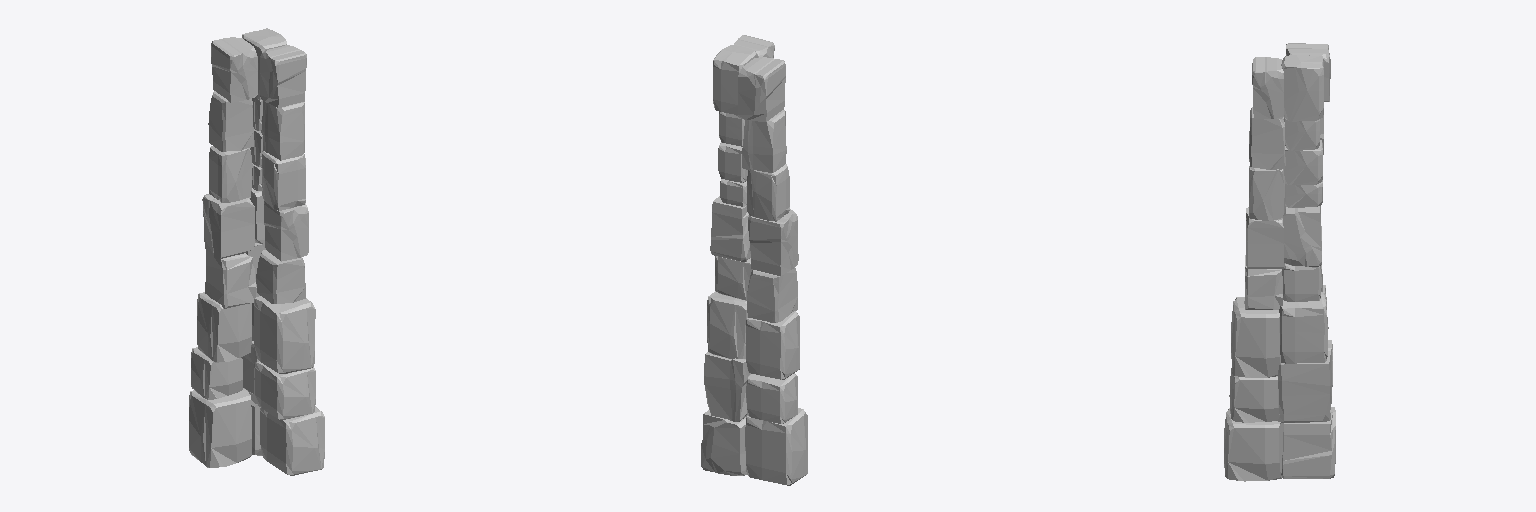
The model's file is Corner_ExteriorWide_Brick.obj.
The picture shows the model from 3 angles: view 1: azimuth 30°, elevation 25°; view 2: azimuth 150°, elevation 25°; view 3: azimuth 270°, elevation 25°; orthographic projection.
Visible parts, largest first — view 1: Corner_ExteriorWide_Brick; view 2: Corner_ExteriorWide_Brick; view 3: Corner_ExteriorWide_Brick.
Boxes of the visible parts, box(x1,y1,x2,y2) form: Corner_ExteriorWide_Brick: box(189, 28, 324, 475); Corner_ExteriorWide_Brick: box(701, 35, 807, 485); Corner_ExteriorWide_Brick: box(1224, 43, 1335, 481).
Bounding box in the file's own units: 0.7123 × 3.04 × 0.7564.